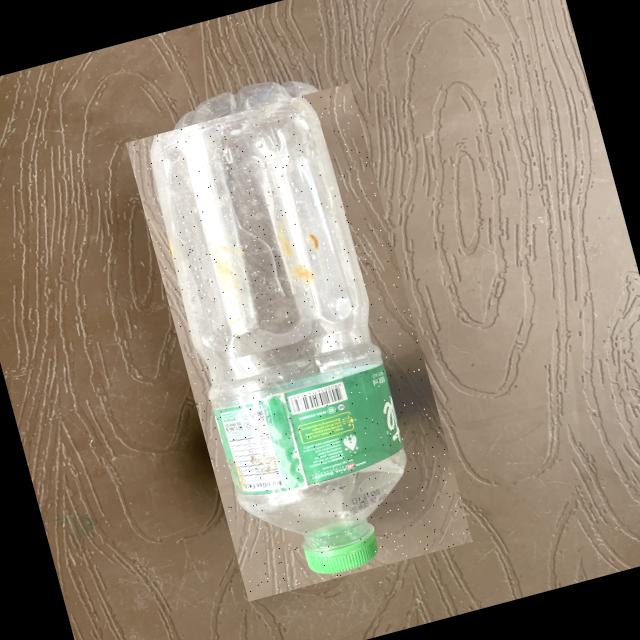REJECT: (125, 81, 472, 600)
